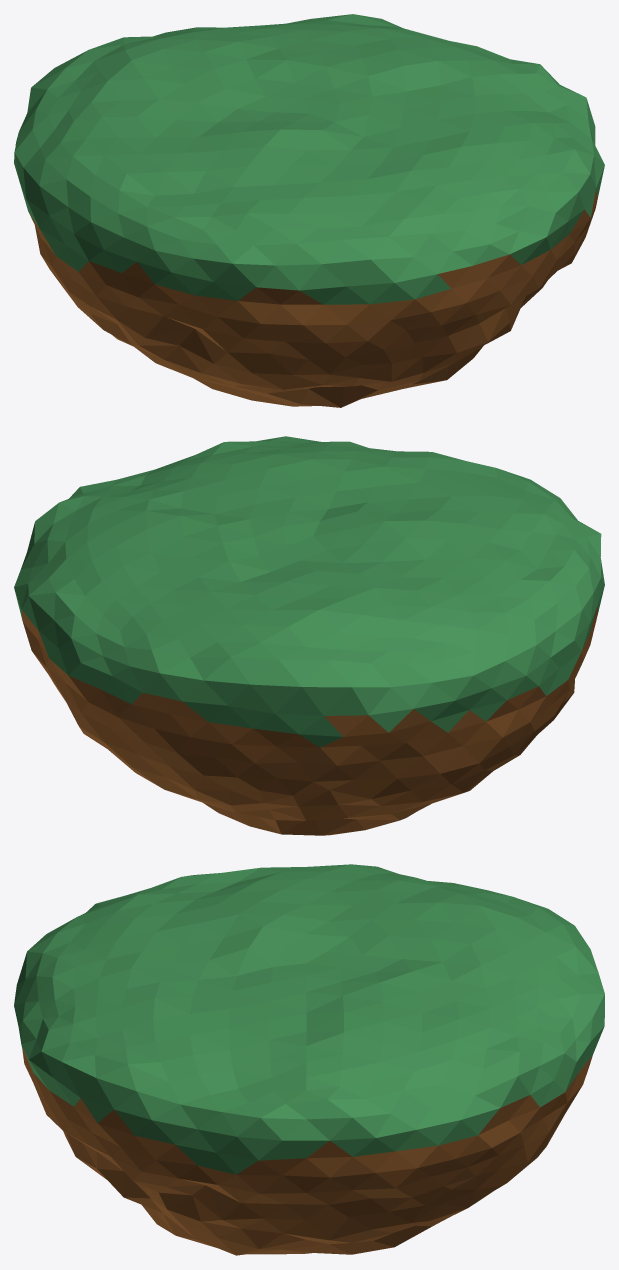
The model's file is island_remakefbx.fbx.
3 views of the same model, one above another, from view 1: azimuth 30°, elevation 25°; view 2: azimuth 150°, elevation 25°; view 3: azimuth 270°, elevation 25° (orthographic).
Parts seen in each view (by area): view 1: Icosphere.066; view 2: Icosphere.066; view 3: Icosphere.066.
Part boxes in pixels (x1,y1,x2,y2): Icosphere.066: [14, 14, 604, 407]; Icosphere.066: [14, 436, 604, 835]; Icosphere.066: [14, 864, 604, 1255].
Bounding box in the file's own units: 6120 × 3286 × 6125.
